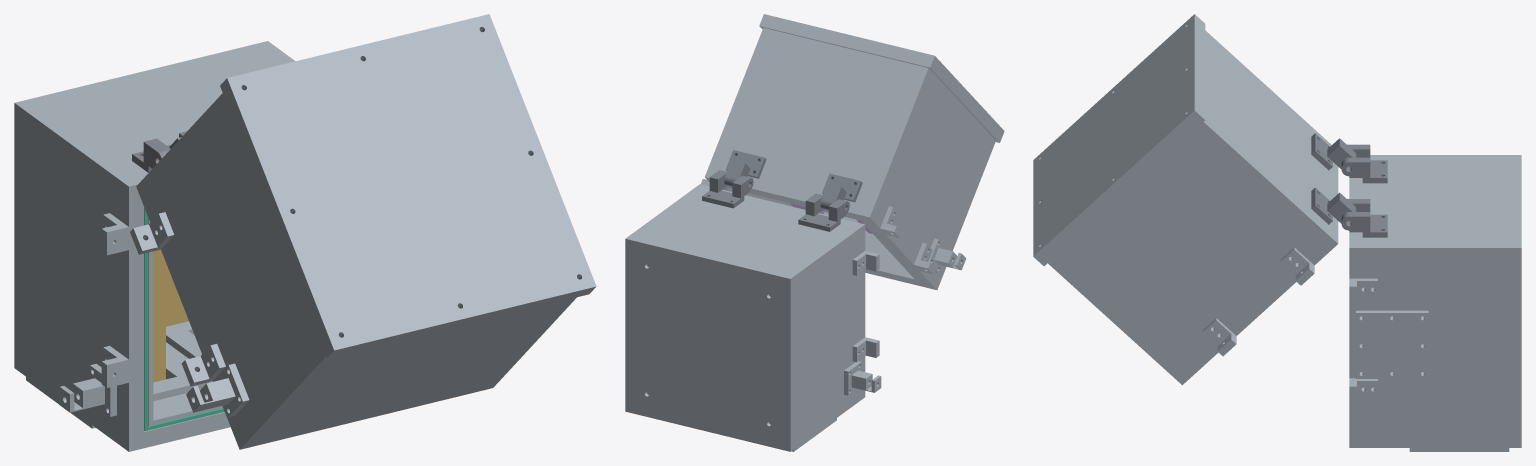
Rendered from winch-45-degrees.glb.
3 renders of one model, left to right at view 1: azimuth 30°, elevation 25°; view 2: azimuth 150°, elevation 25°; view 3: azimuth 270°, elevation 25°, orthographic. The views are drawn at different scales.
Parts seen in each view (by area): view 1: roof, base, hood, moving-prop-clevis, fixed-prop-clevis, motor-A, left-closing-clamp-hood-70, left-closing-clamp-hood-185, joint-gasket, left-closing-clamp-base-185, left-closing-clamp-base-70, fixed-hinge-26 (+1 smaller); view 2: base, hood, roof, fixed-hinge-26, fixed-hinge-160, moving-hinge-26, moving-hinge-160, fixed-prop-clevis, moving-prop-clevis, left-closing-clamp-base-70, left-closing-clamp-base-185, left-closing-clamp-hood-70 (+1 smaller); view 3: hood, base, roof, hybrid-cap, fixed-hinge-26, fixed-hinge-160, moving-hinge-26, moving-hinge-160, right-closing-clamp-hood-185, right-closing-clamp-hood-70, right-closing-clamp-base-185, right-closing-clamp-base-70.
Boxes of the visible parts, <box> form: roof: <box>220,14,596,358</box>; base: <box>14,41,295,451</box>; hood: <box>136,30,578,449</box>; moving-prop-clevis: <box>186,363,249,416</box>; fixed-prop-clevis: <box>59,363,116,416</box>; motor-A: <box>153,249,165,382</box>; left-closing-clamp-hood-70: <box>181,344,225,386</box>; left-closing-clamp-hood-185: <box>130,212,174,254</box>; joint-gasket: <box>144,208,224,430</box>; left-closing-clamp-base-185: <box>101,213,128,255</box>; left-closing-clamp-base-70: <box>101,345,128,387</box>; fixed-hinge-26: <box>132,131,186,172</box>; base: <box>625,184,865,451</box>; hood: <box>705,28,995,289</box>; roof: <box>759,14,1004,142</box>; fixed-hinge-26: <box>798,193,849,231</box>; fixed-hinge-160: <box>702,170,753,208</box>; moving-hinge-26: <box>820,173,862,210</box>; moving-hinge-160: <box>724,150,766,186</box>; fixed-prop-clevis: <box>844,361,881,395</box>; moving-prop-clevis: <box>928,238,966,273</box>; left-closing-clamp-base-70: <box>852,337,879,362</box>; left-closing-clamp-base-185: <box>852,250,879,275</box>; left-closing-clamp-hood-70: <box>914,242,936,274</box>; hood: <box>1048,30,1338,385</box>; base: <box>1349,155,1521,447</box>; roof: <box>1033,14,1205,265</box>; hybrid-cap: <box>1356,310,1428,378</box>; fixed-hinge-26: <box>1341,144,1387,183</box>; fixed-hinge-160: <box>1341,199,1387,237</box>; moving-hinge-26: <box>1311,133,1356,170</box>; moving-hinge-160: <box>1311,187,1356,224</box>; right-closing-clamp-hood-185: <box>1280,247,1314,285</box>; right-closing-clamp-hood-70: <box>1202,318,1236,356</box>; right-closing-clamp-base-185: <box>1349,278,1377,303</box>; right-closing-clamp-base-70: <box>1349,378,1377,403</box>.
Bounding box in the file's own units: 0.288 × 0.3962 × 0.5095.
